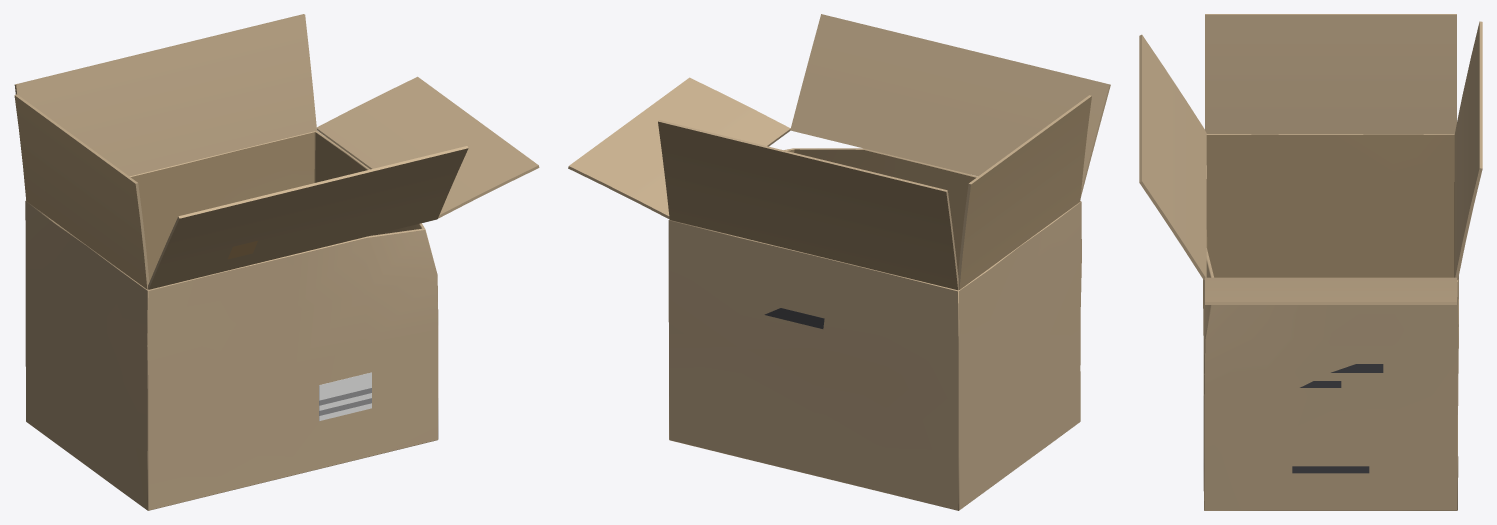
File: paper_cardboard_box_large.fbx
3 renders of one model, left to right at view 1: azimuth 30°, elevation 25°; view 2: azimuth 150°, elevation 25°; view 3: azimuth 270°, elevation 25°, orthographic. The views are drawn at different scales.
Parts seen in each view (by area): view 1: paper_cardboard_box_large; view 2: paper_cardboard_box_large; view 3: paper_cardboard_box_large.
Part boxes in pixels (x1,y1,x2,y2): paper_cardboard_box_large: (14,14,539,510); paper_cardboard_box_large: (568,14,1110,510); paper_cardboard_box_large: (1139,14,1482,510).
Bounding box in the file's own units: 0.7645 × 0.5972 × 0.5408.
